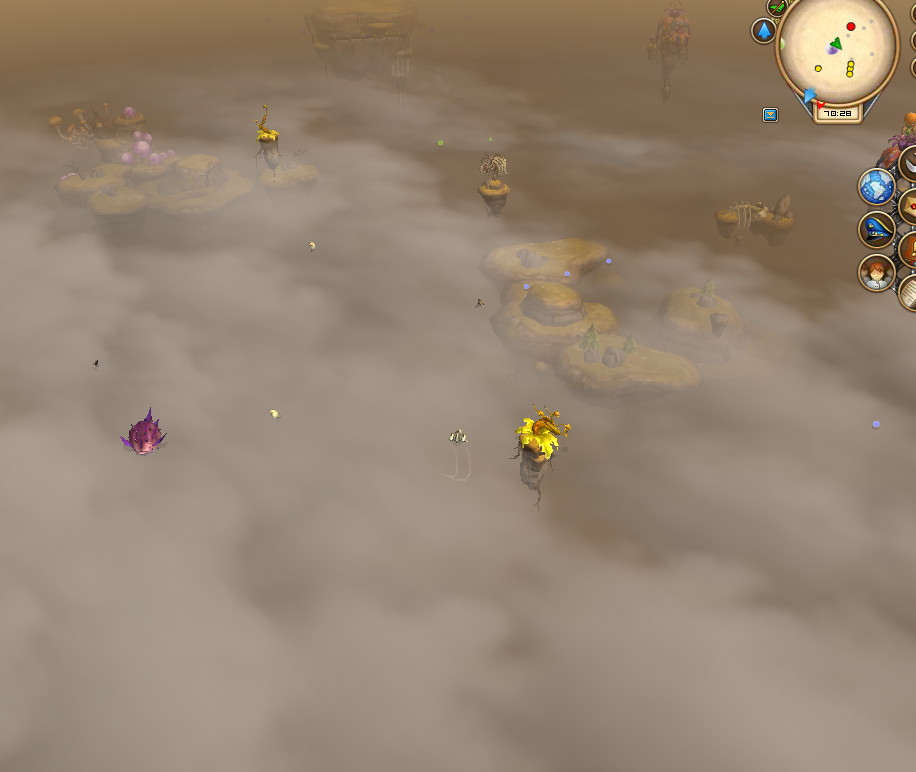dandelion-empty: (512, 406, 573, 493), (249, 99, 286, 174)
fluff: (434, 137, 447, 150), (484, 134, 497, 145)
